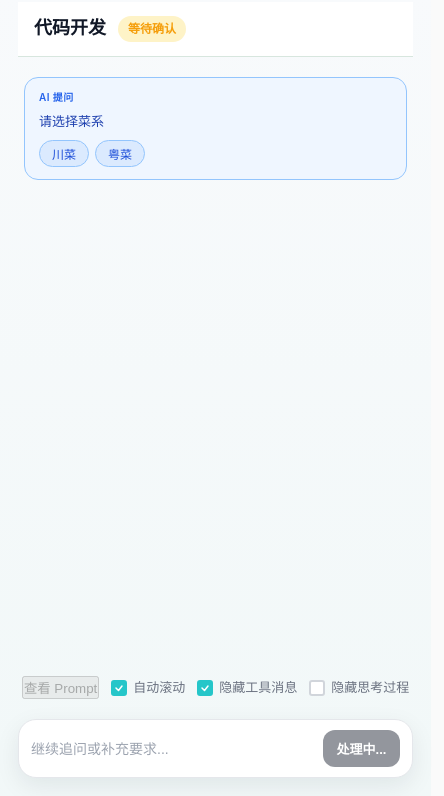
Test case: StepSessionPanel › clicking an AskUserQuestion option fills the composer with the option label
The width and height of the screenshot is (444, 796).
Click the button with class "event-ask-user-option-btn" showing "川菜" at [64, 153], box [39, 140, 89, 167]
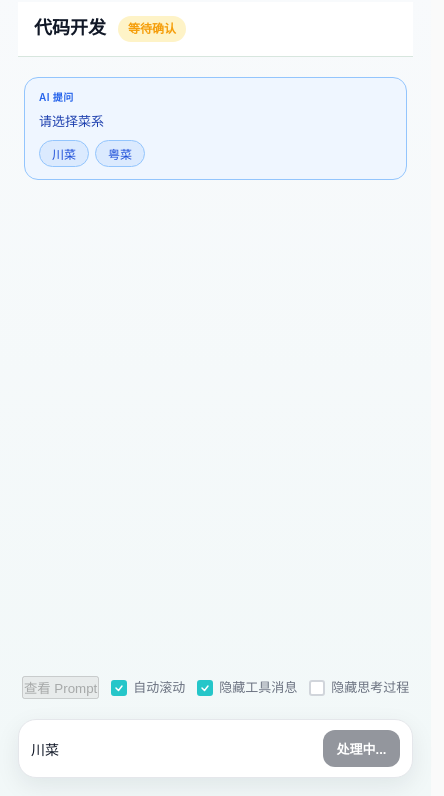
Result: the field holds "川菜" at [31, 730, 312, 766]
